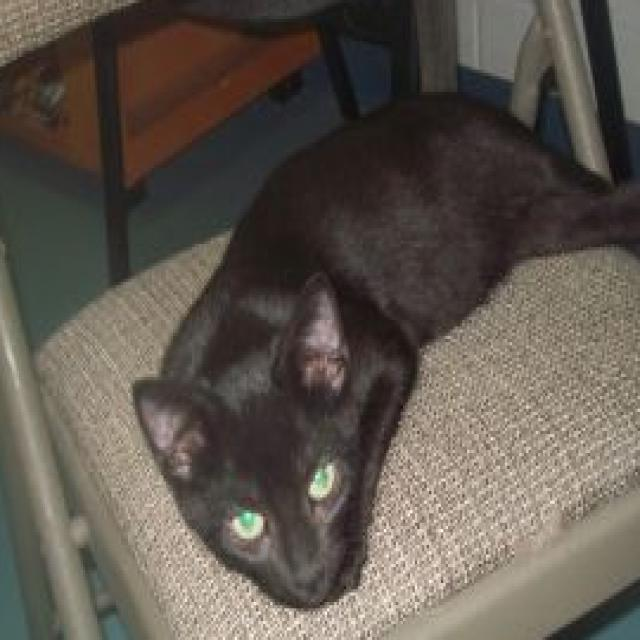Bombay: (125, 79, 640, 614)
